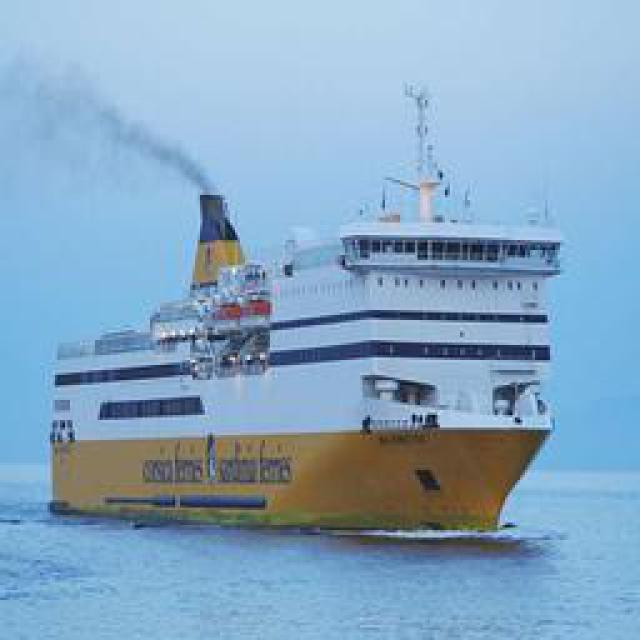Ship: (45, 61, 558, 529)
